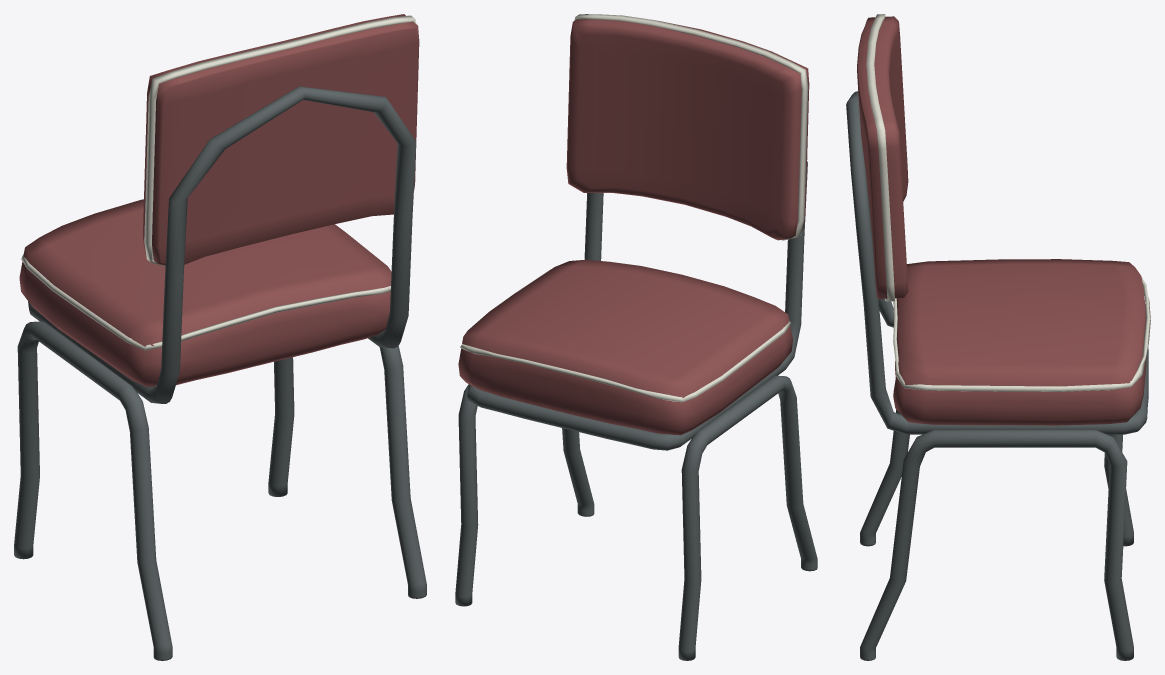
The model's file is Chair.fbx.
3 views of the same model, side by side, from view 1: azimuth 30°, elevation 25°; view 2: azimuth 150°, elevation 25°; view 3: azimuth 270°, elevation 25° (orthographic). The views are drawn at different scales.
Parts seen in each view (by area): view 1: Chair; view 2: Chair; view 3: Chair.
Part boxes in pixels (bbox=[...]): Chair: bbox=[14, 14, 426, 660]; Chair: bbox=[455, 14, 817, 660]; Chair: bbox=[846, 14, 1150, 660].
Bounding box in the file's own units: 53.5 × 110 × 56.37.
